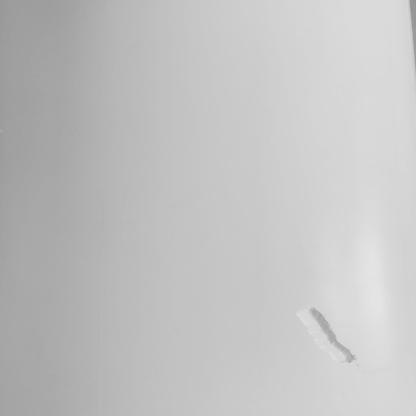sunshang: (295, 305, 357, 364)
